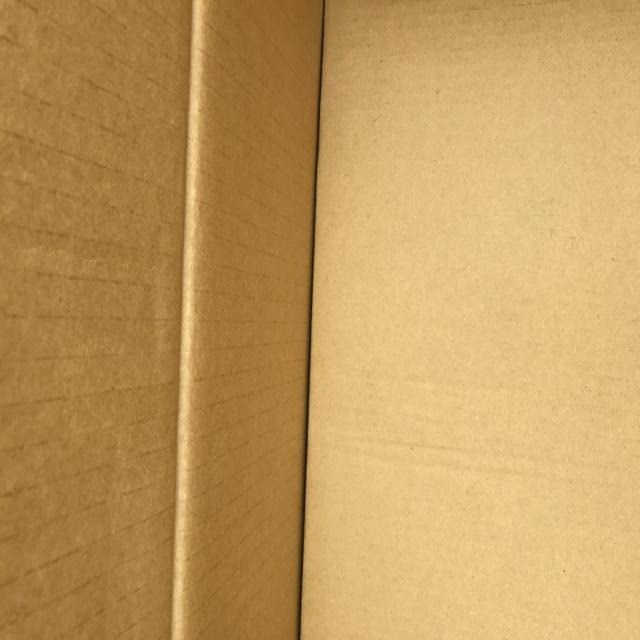cardboard: (300, 1, 640, 638), (1, 0, 323, 639)
